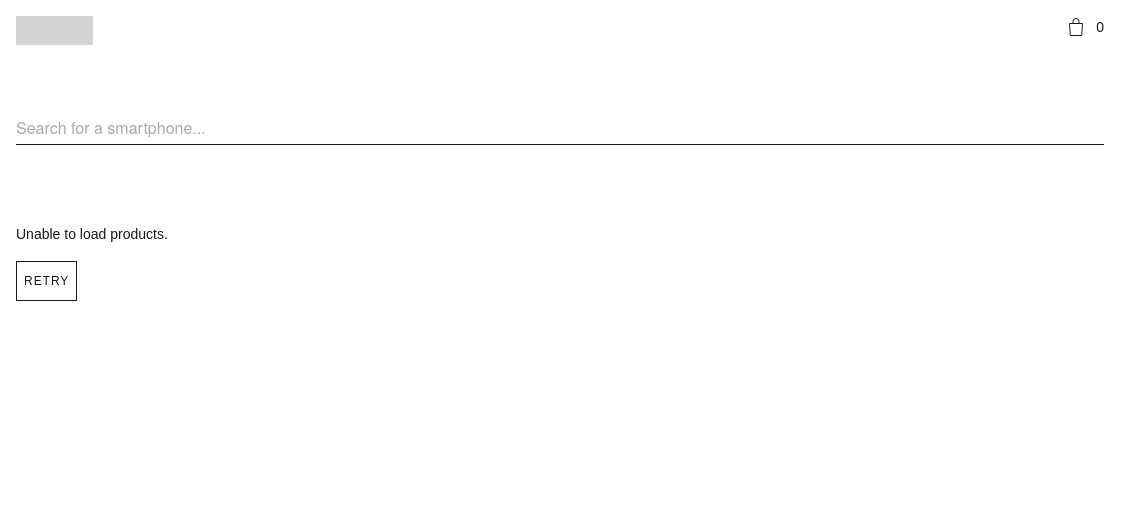
Test: shows an accessible error and retries the catalog request
Check: the message shows "Unable to load products.", box x1=16 y1=226 x2=168 y2=242
Click the button "Retry".
click(47, 281)  # box x1=16 y1=261 x2=77 y2=301
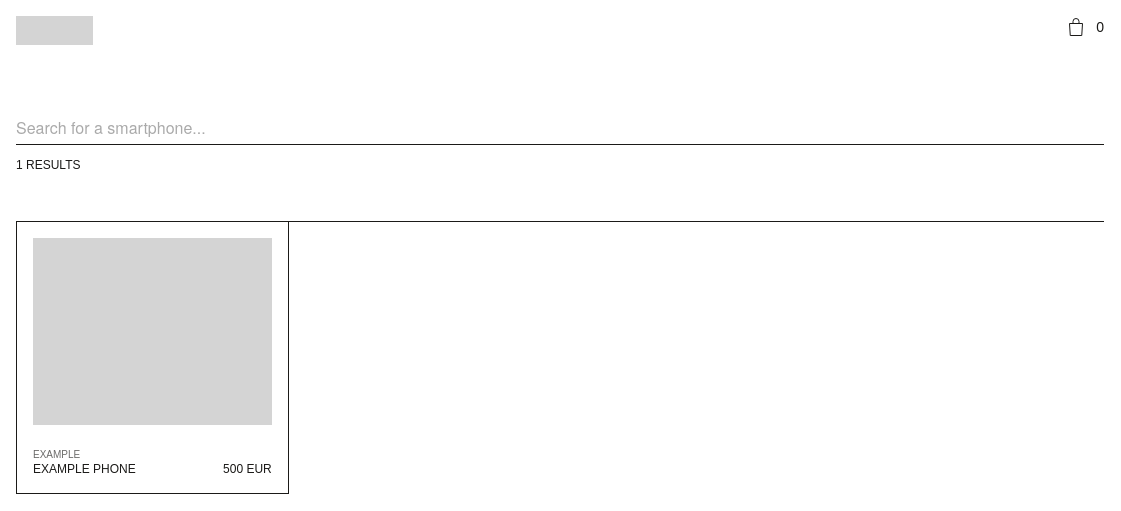
Check: the text "1 RESULTS" is shown, box x1=16 y1=158 x2=80 y2=172
